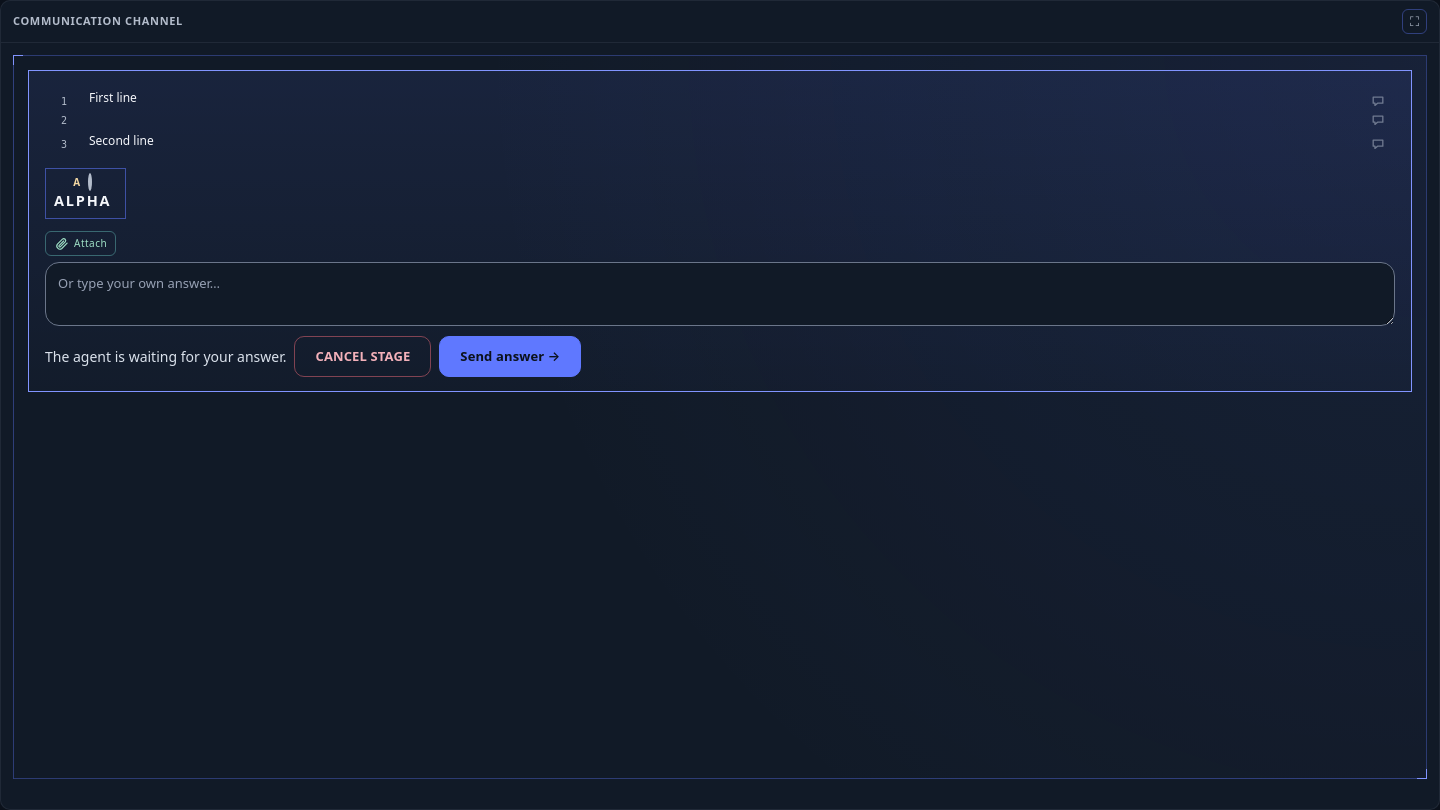
Test: DialogChannel › clicking a question line opens a comment form
Click the text "First line".
click(113, 98)  # box [89,89,137,106]
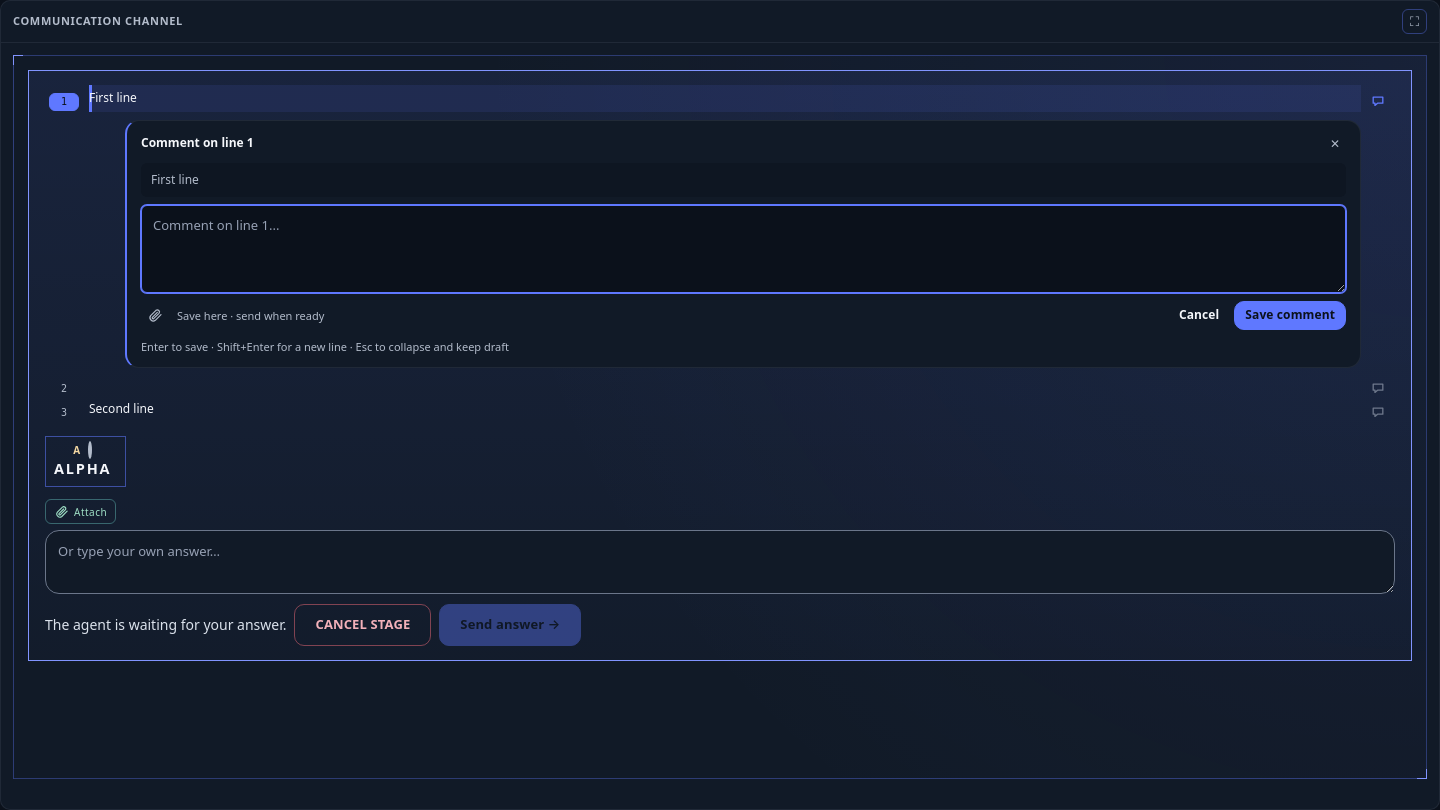
expect the element with class "line-comment-form" is shown: met, box [125,120,1361,368]
